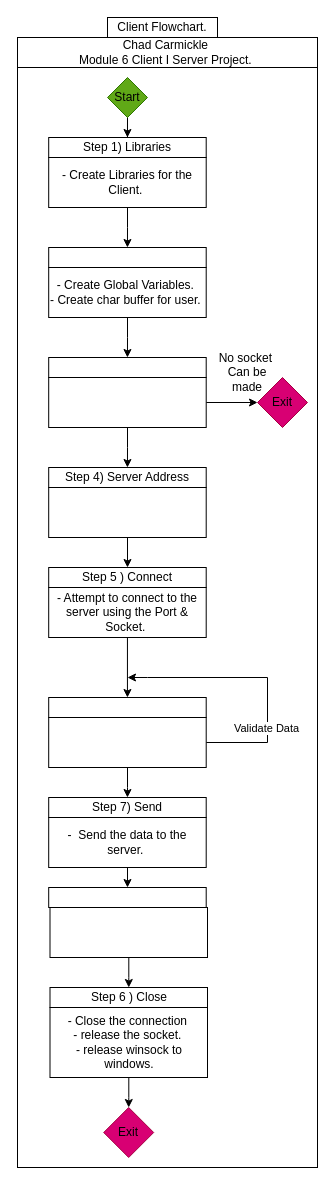
Image size: 335x1185. Some labels were removed from this diagram. The shapes that lost their labels are listed below. From the top down, each one's centre as x and y in pixels, then its label:
pixel 127 257: Step 2) Main
pixel 127 367: Step 3) Create Socket
pixel 127 402: - Create a socket
pixel 127 512: - Create the server address
pixel 127 707: Step 6 ) Input
pixel 127 742: - Request input from user.
pixel 127 897: Step 6 ) Receive
pixel 128 932: - Accept input from Server and display to user.
